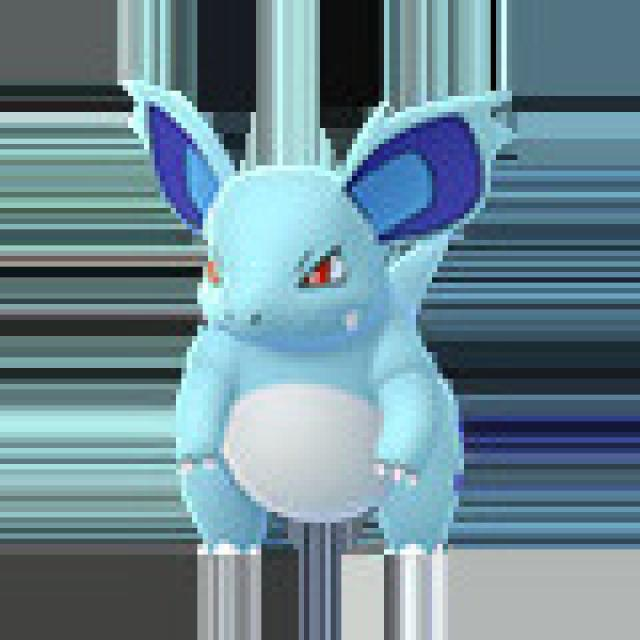Nidorina: (125, 84, 492, 556)
